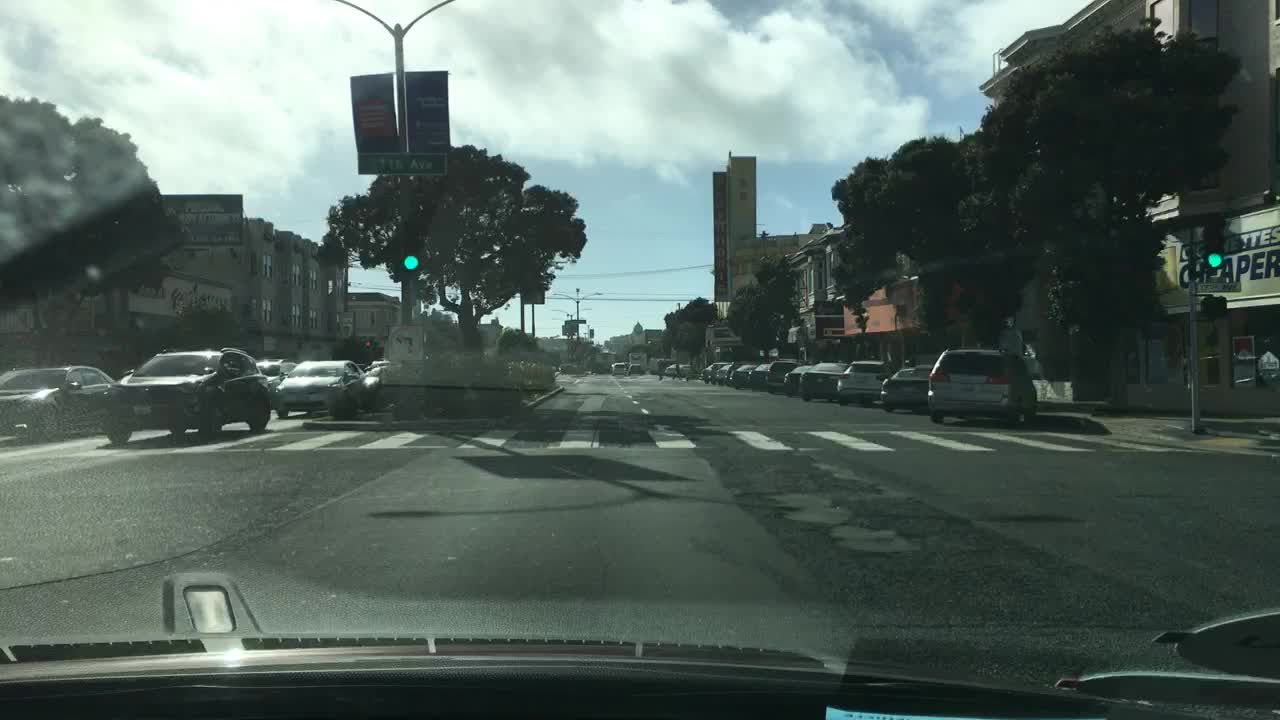car: (98, 345, 274, 443), (924, 345, 1038, 424), (0, 362, 114, 440), (275, 355, 362, 415), (877, 362, 948, 413), (835, 357, 904, 404), (798, 360, 857, 399), (250, 357, 301, 387), (754, 355, 794, 391), (360, 359, 390, 404), (781, 364, 823, 396), (728, 362, 766, 387), (701, 360, 727, 381), (717, 362, 744, 382), (654, 357, 674, 375), (680, 362, 700, 379), (664, 362, 681, 377), (610, 360, 626, 375), (555, 361, 575, 373), (646, 357, 661, 372), (627, 360, 641, 374)
traffic light: (1205, 218, 1224, 268), (1201, 294, 1228, 314), (403, 250, 420, 272), (361, 337, 374, 349)
traffic sign: (356, 150, 448, 175), (388, 324, 425, 363)
truck: (627, 348, 647, 374)
